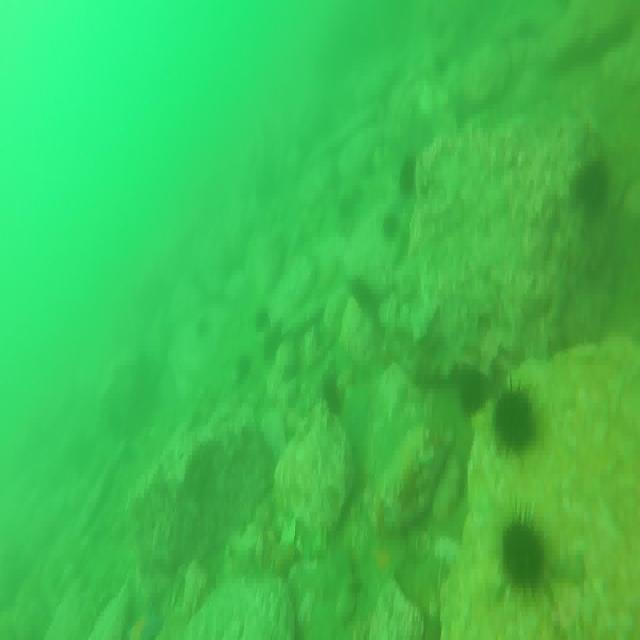echinus: (497, 515, 548, 598), (495, 382, 535, 454), (576, 164, 612, 213), (457, 363, 489, 413), (321, 376, 343, 418), (402, 153, 420, 197), (379, 211, 402, 241), (239, 352, 256, 386), (252, 302, 271, 332), (195, 312, 212, 342)
starfish: (366, 542, 412, 593), (124, 596, 166, 640)
